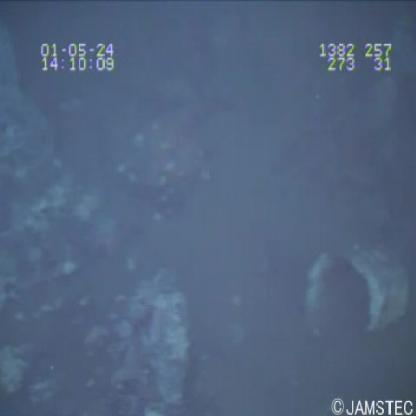Rác: (300, 236, 412, 358)
